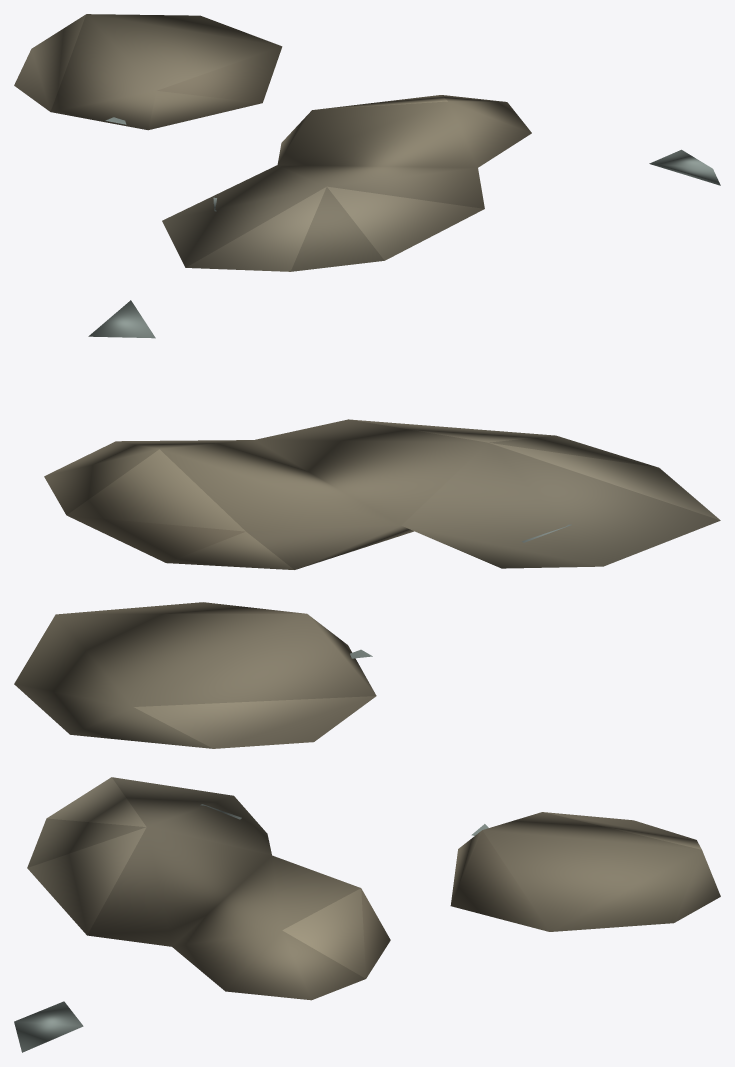
File: grotto_gc_silt_b_lod2.glb
The picture shows the model from 3 angles, top to bottom: view 1: azimuth 30°, elevation 25°; view 2: azimuth 150°, elevation 25°; view 3: azimuth 270°, elevation 25°; orthographic projection. The views are drawn at different scales.
Visible parts, largest first — view 1: grotto_gc_silt_b.001; view 2: grotto_gc_silt_b.001; view 3: grotto_gc_silt_b.001.
Part boxes in pixels (box(x1,y1,x2,y2)): grotto_gc_silt_b.001: box(14, 14, 720, 271); grotto_gc_silt_b.001: box(14, 300, 720, 748); grotto_gc_silt_b.001: box(14, 777, 720, 1052).
Size of the model in its own units: 3.26 by 0.2533 by 3.66.
